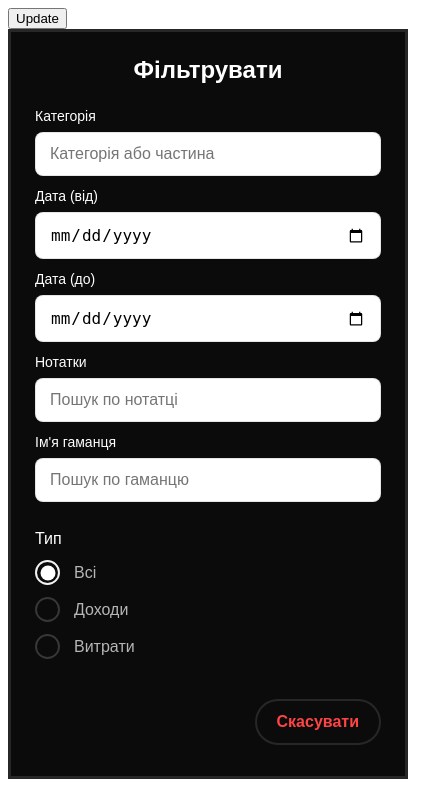
Test: <Filter /> › respects controlled value prop
This screenshot has width=425, height=796.
Click the button with id "update": (38, 19) [8, 8, 67, 29]
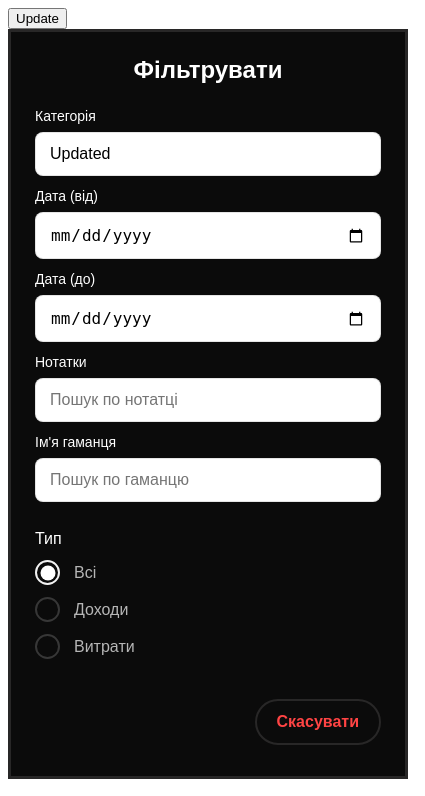
expect the field named "category" holds "Updated": met, box [35, 132, 381, 176]
